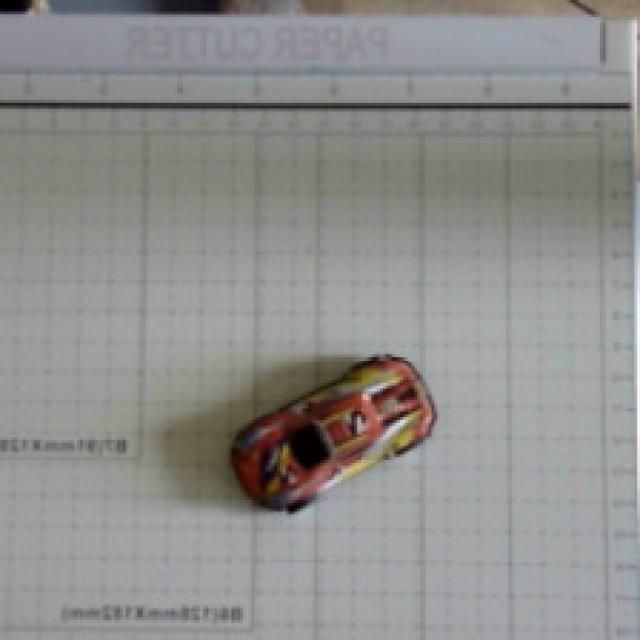Red Car: (201, 316, 495, 555)
